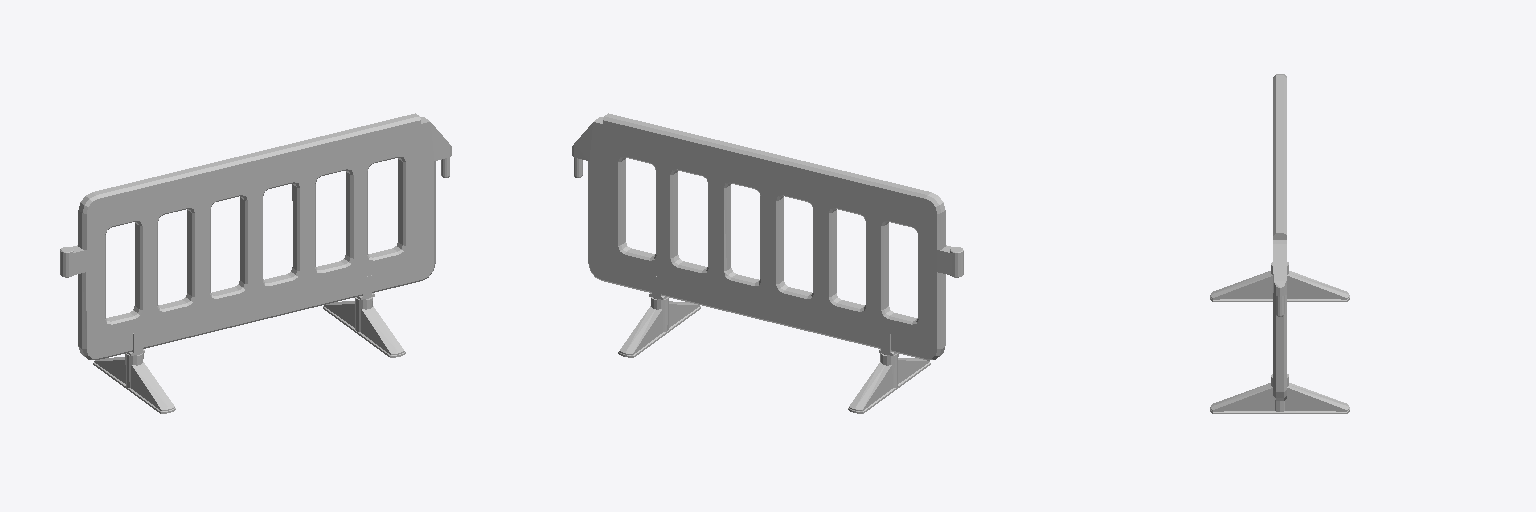
The model's file is seucrityFence.obj.
The picture shows the model from 3 angles: view 1: azimuth 30°, elevation 25°; view 2: azimuth 150°, elevation 25°; view 3: azimuth 270°, elevation 25°; orthographic projection.
Parts seen in each view (by area): view 1: SecurityFence_SecurityFence; view 2: SecurityFence_SecurityFence; view 3: SecurityFence_SecurityFence.
Part boxes in pixels (left/top/right/bottom): SecurityFence_SecurityFence: left=60, top=113, right=451, bottom=413; SecurityFence_SecurityFence: left=572, top=113, right=963, bottom=413; SecurityFence_SecurityFence: left=1210, top=74, right=1349, bottom=413.
Bounding box in the file's own units: 196 × 97.98 × 61.14.